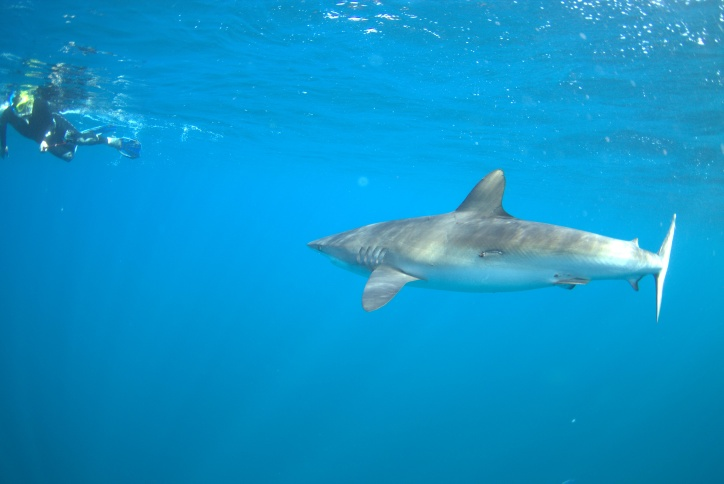Sedoso: (287, 165, 685, 331)
